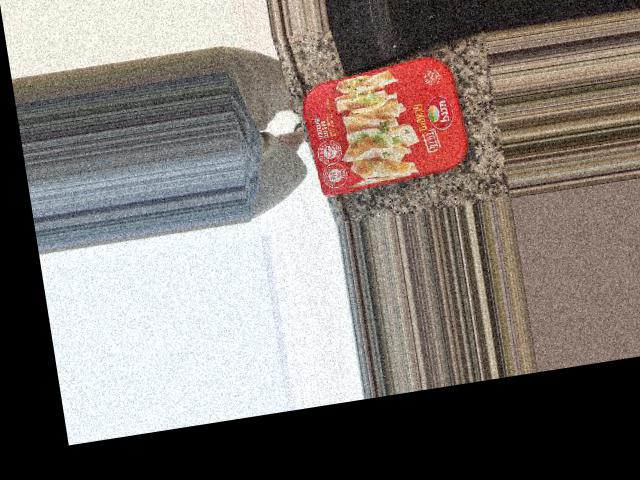cheese: (264, 41, 438, 188)
